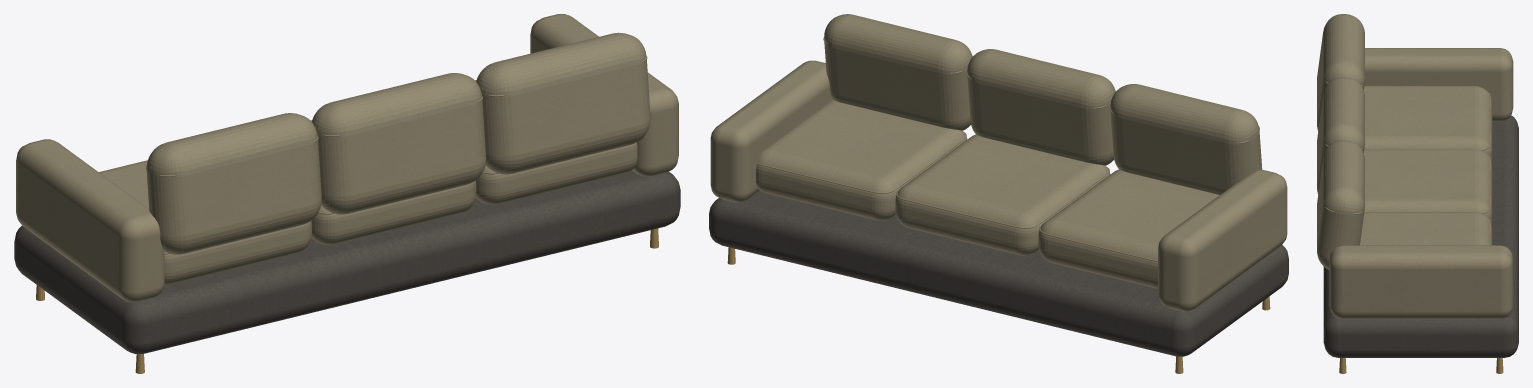
File: luxury-cloud-sofa.glb
3 renders of one model, left to right at view 1: azimuth 30°, elevation 25°; view 2: azimuth 150°, elevation 25°; view 3: azimuth 270°, elevation 25°, orthographic. The views are drawn at different scales.
Parts seen in each view (by area): view 1: linen_0, fabric_0; view 2: linen_0, fabric_0; view 3: linen_0, fabric_0, bronze_1.
Boxes of the visible parts, x1,y1,x2,y2 form: linen_0: [16, 14, 678, 302]; fabric_0: [14, 170, 680, 353]; linen_0: [710, 14, 1287, 311]; fabric_0: [709, 190, 1288, 356]; linen_0: [1317, 14, 1513, 319]; fabric_0: [1323, 115, 1518, 357]; bronze_1: [1339, 358, 1503, 373].
Size of the model in its own units: 2.65 by 0.9942 by 1.06.
3 materials, 2 textured.
